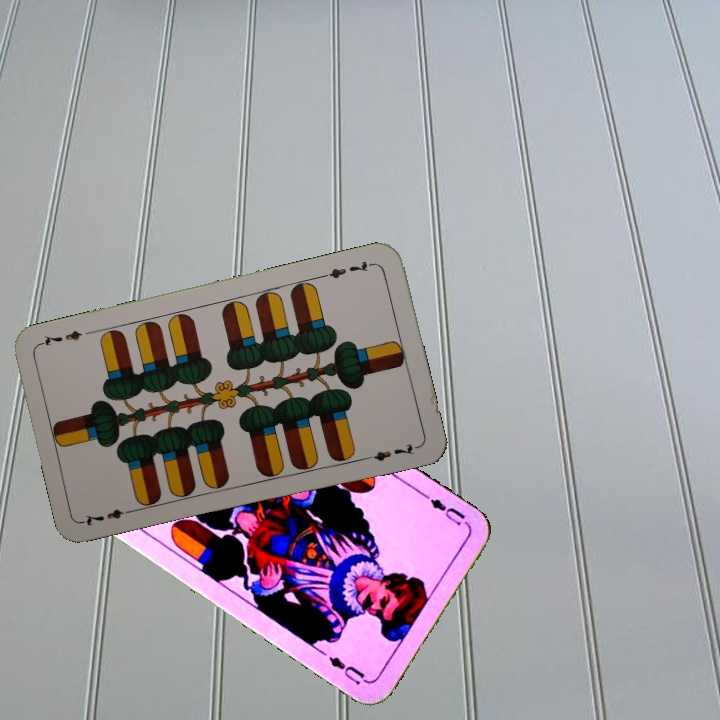E7: (319, 256, 378, 281), (80, 505, 138, 529)
EU: (422, 491, 473, 531)
